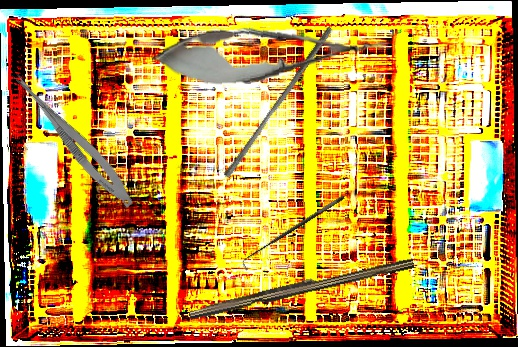Hook Surgical: (237, 193, 350, 272)
Micro Scissor: (1, 65, 141, 213), (150, 15, 392, 91)
Pusher: (222, 21, 335, 183)
Scalpel Handle: (187, 251, 415, 324)
